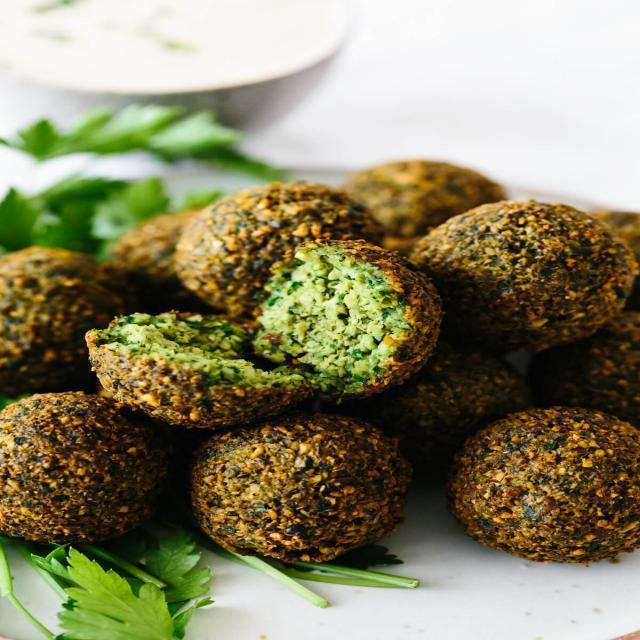falafel: (408, 194, 640, 350), (188, 408, 414, 564), (0, 392, 184, 556), (457, 404, 640, 560)
